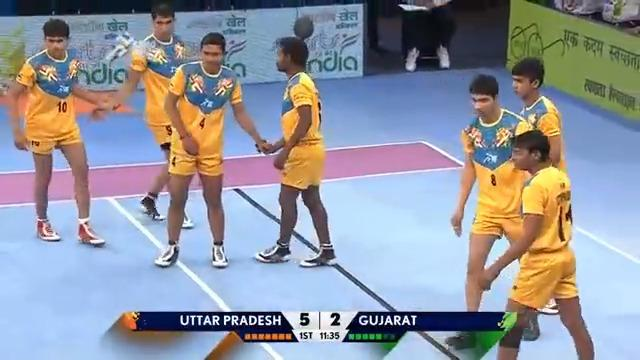Player: (153, 31, 271, 268), (481, 118, 595, 358), (445, 72, 541, 348), (6, 18, 117, 246), (90, 1, 198, 228), (254, 35, 336, 267), (509, 56, 567, 314)
referee: (397, 0, 456, 72)
